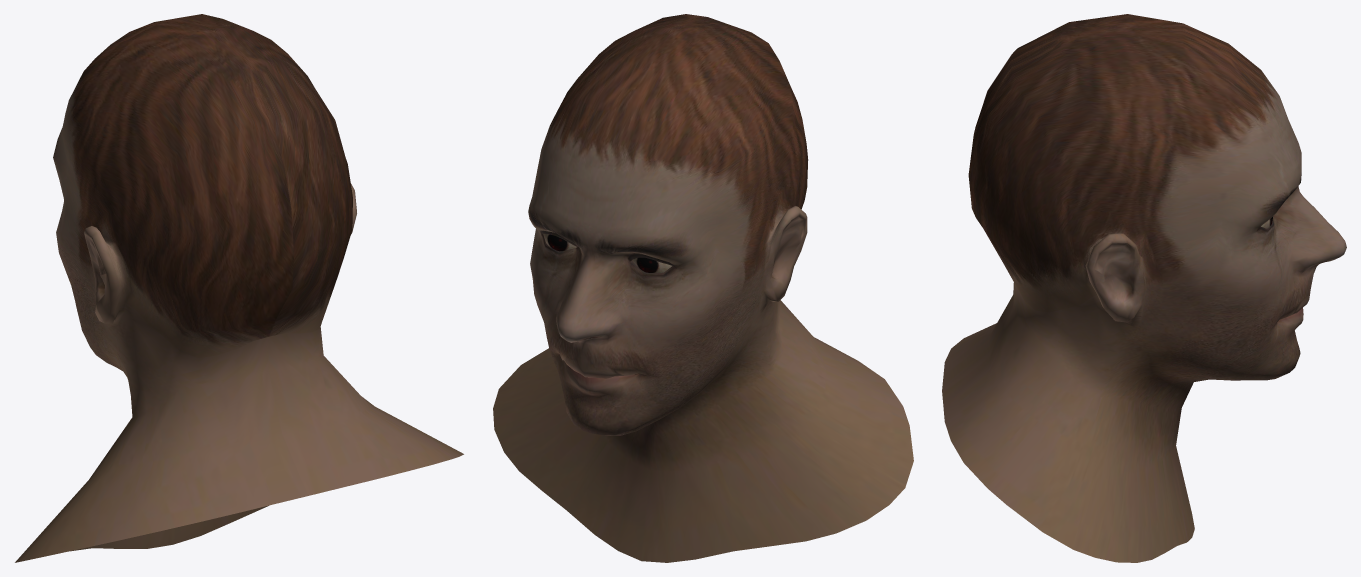
File: G3_Head_Hero_Myrtana_Animated_08_S05.obj
3 views of the same model, side by side, from view 1: azimuth 30°, elevation 25°; view 2: azimuth 150°, elevation 25°; view 3: azimuth 270°, elevation 25° (orthographic). The views are drawn at different scales.
Parts seen in each view (by area): view 1: G3_Animation_Head_Main_08; view 2: G3_Animation_Head_Main_08; view 3: G3_Animation_Head_Main_08.
Part boxes in pixels (left/top/right/bottom): G3_Animation_Head_Main_08: left=15, top=14, right=463, bottom=562; G3_Animation_Head_Main_08: left=493, top=14, right=913, bottom=562; G3_Animation_Head_Main_08: left=942, top=14, right=1346, bottom=562.
Size of the model in its own units: 0.3016 by 0.3579 by 0.2605.
3 materials, 3 textured.
